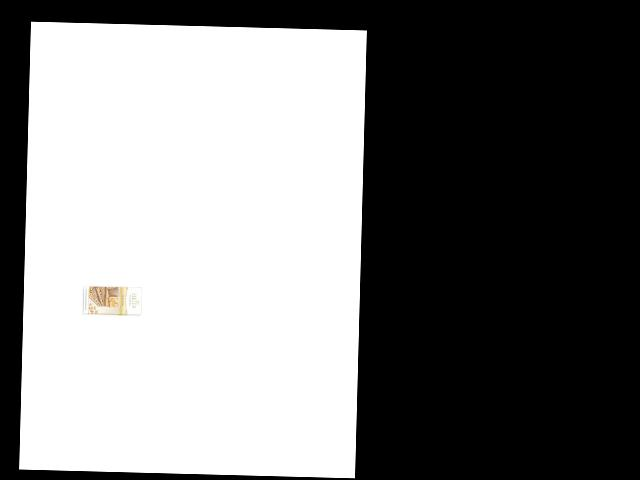chocolate: (80, 280, 145, 327)
